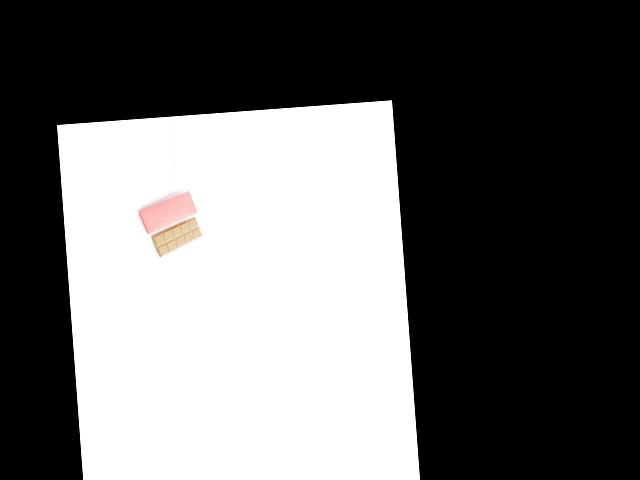chocolate: (147, 214, 204, 257)
